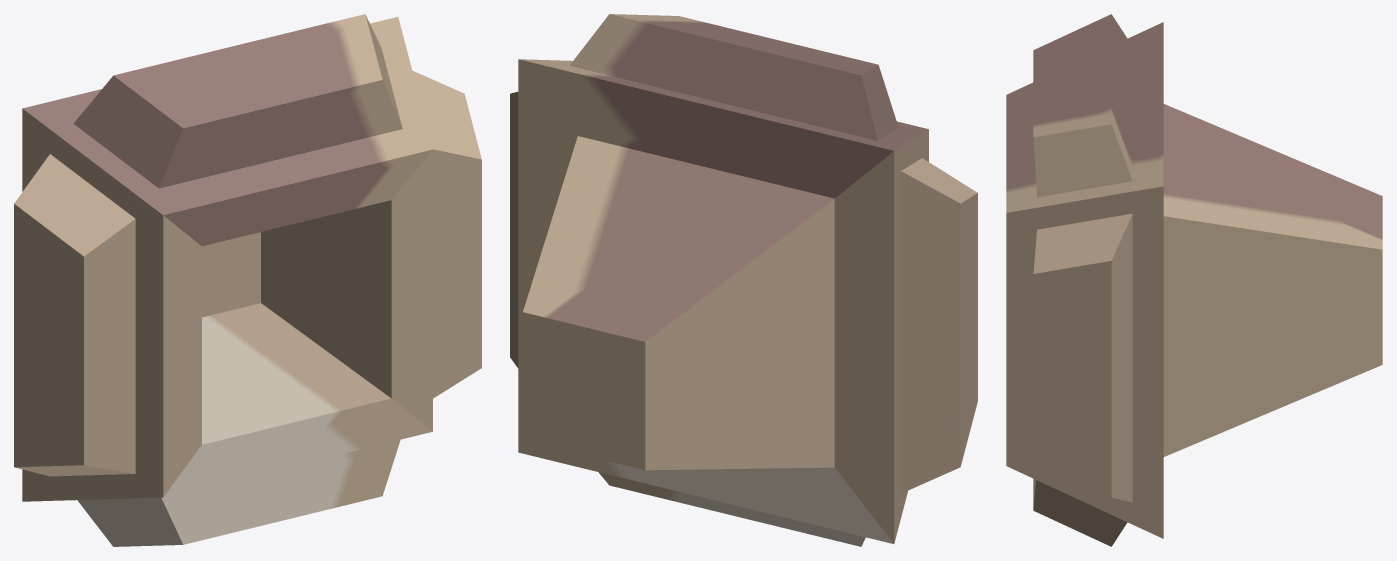
The model's file is lv3_boss_core.fbx.
The picture shows the model from 3 angles, left to right: view 1: azimuth 30°, elevation 25°; view 2: azimuth 150°, elevation 25°; view 3: azimuth 270°, elevation 25°; orthographic projection. The views are drawn at different scales.
Visible parts, largest first — view 1: Lv3BossCore; view 2: Lv3BossCore; view 3: Lv3BossCore.
Part boxes in pixels (x1,y1,x2,y2): Lv3BossCore: (14,14,481,546); Lv3BossCore: (510,14,977,546); Lv3BossCore: (1006,14,1382,546).
Bounding box in the file's own units: 852 × 852 × 687.
